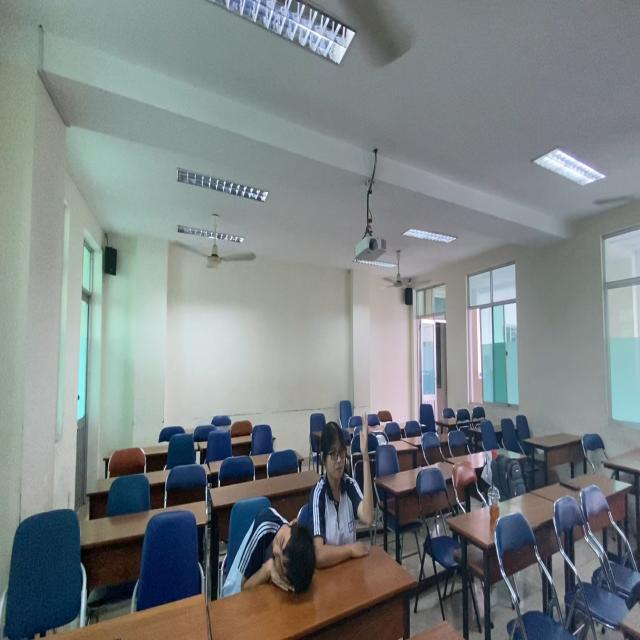raise_hand: (312, 405, 386, 568)
sleep: (217, 488, 320, 627)
